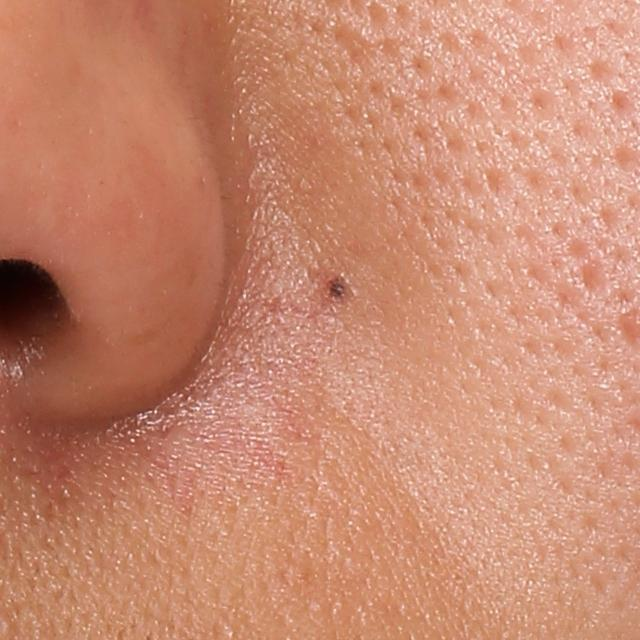atrophic_scar: (332, 27, 377, 75), (578, 261, 612, 305)
nevus: (322, 271, 351, 307)
